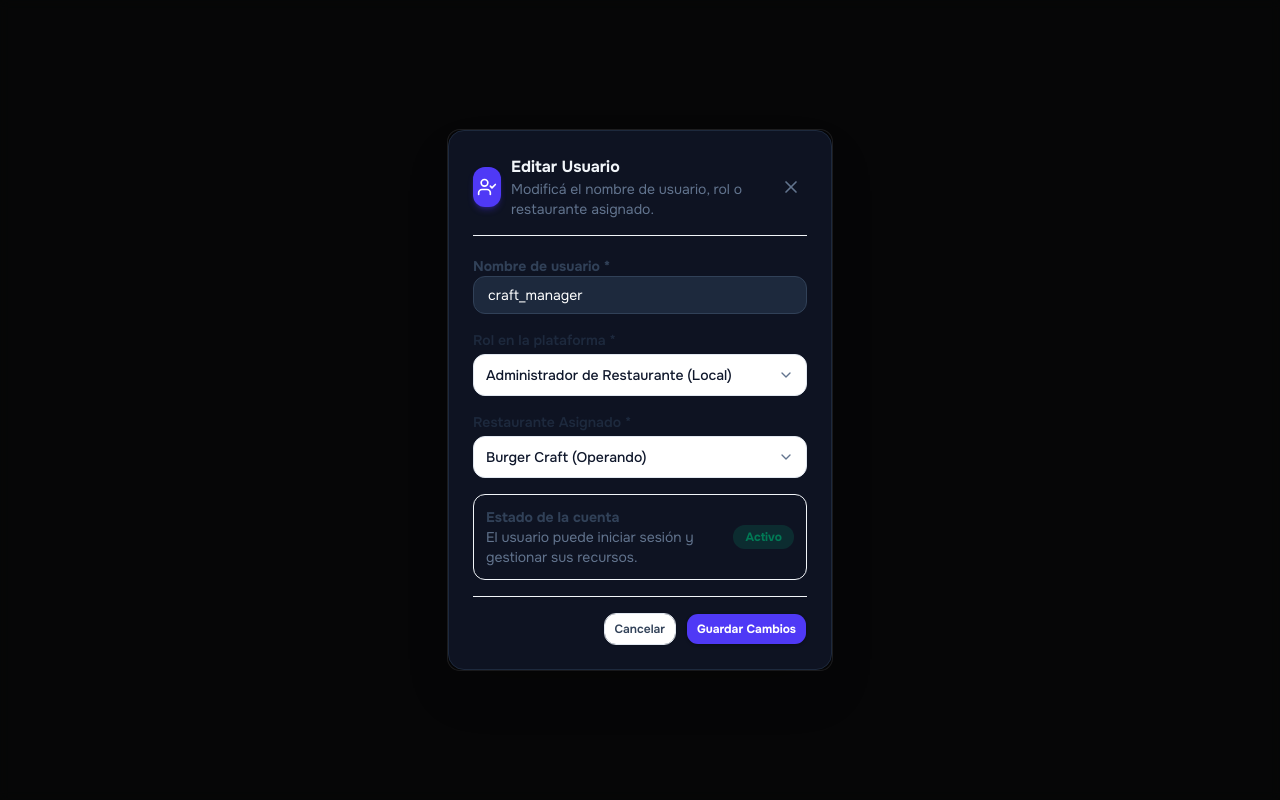
Test: EditUserModal (TDD) › displays Spanish error messages on 400, 404, and 409 responses
Click the button "Guardar Cambios" at (746, 629), box [686,613,807,645]
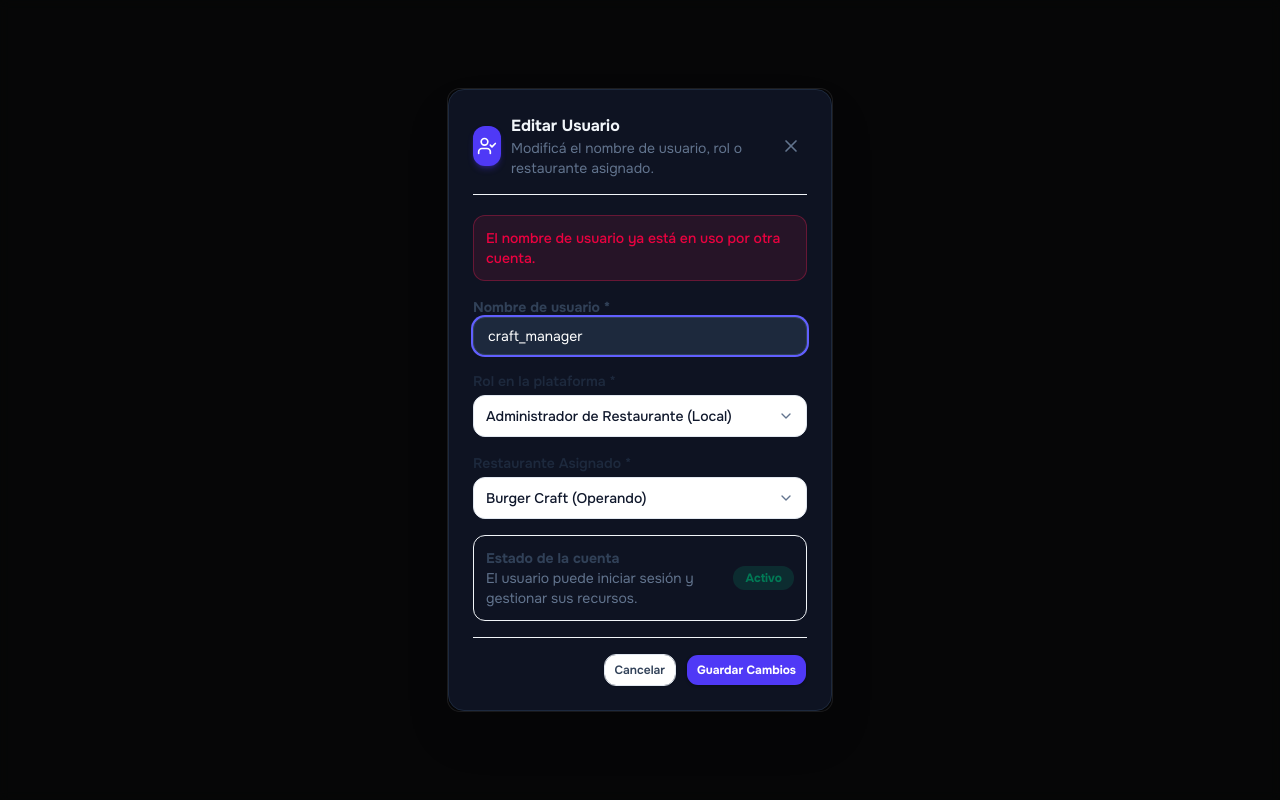
Check: the text "El nombre de usuario ya está en uso por otra cuenta." is shown, box [473,215,807,281]
